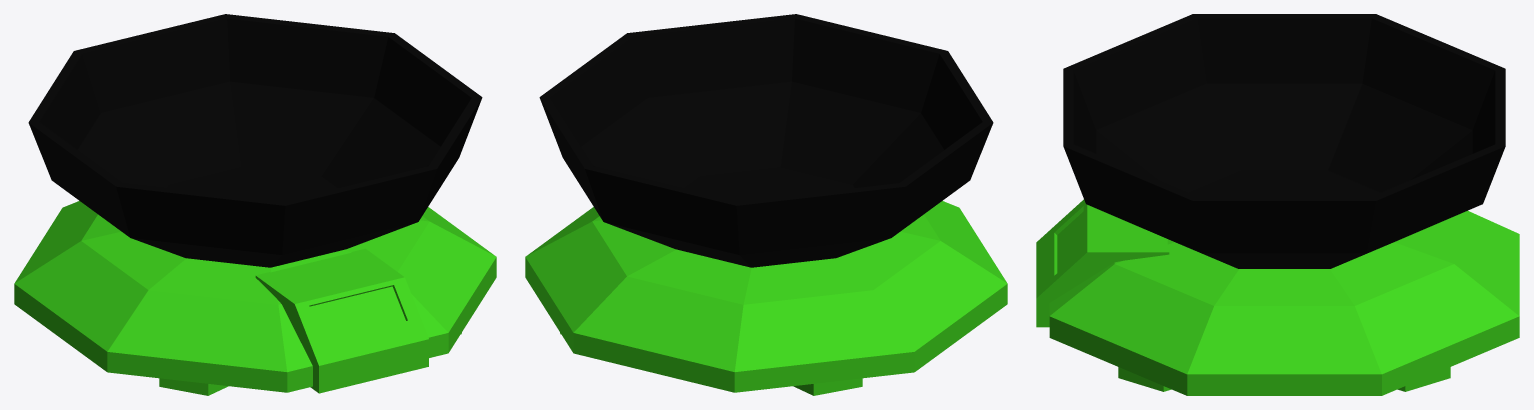
File: SM_scales.fbx
3 renders of one model, left to right at view 1: azimuth 30°, elevation 25°; view 2: azimuth 150°, elevation 25°; view 3: azimuth 270°, elevation 25°, orthographic. The views are drawn at different scales.
Visible parts, largest first — view 1: scales; view 2: scales; view 3: scales.
Part boxes in pixels (bbox=[...]): scales: bbox=[14, 14, 496, 395]; scales: bbox=[525, 14, 1007, 395]; scales: bbox=[1036, 14, 1519, 395].
Size of the model in its own units: 32.03 by 15.49 by 32.92.
